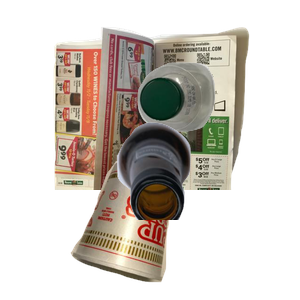glass: (115, 120, 300, 300)
paper: (51, 24, 291, 204)
plastic: (135, 60, 300, 184)
trash: (68, 158, 235, 300)
